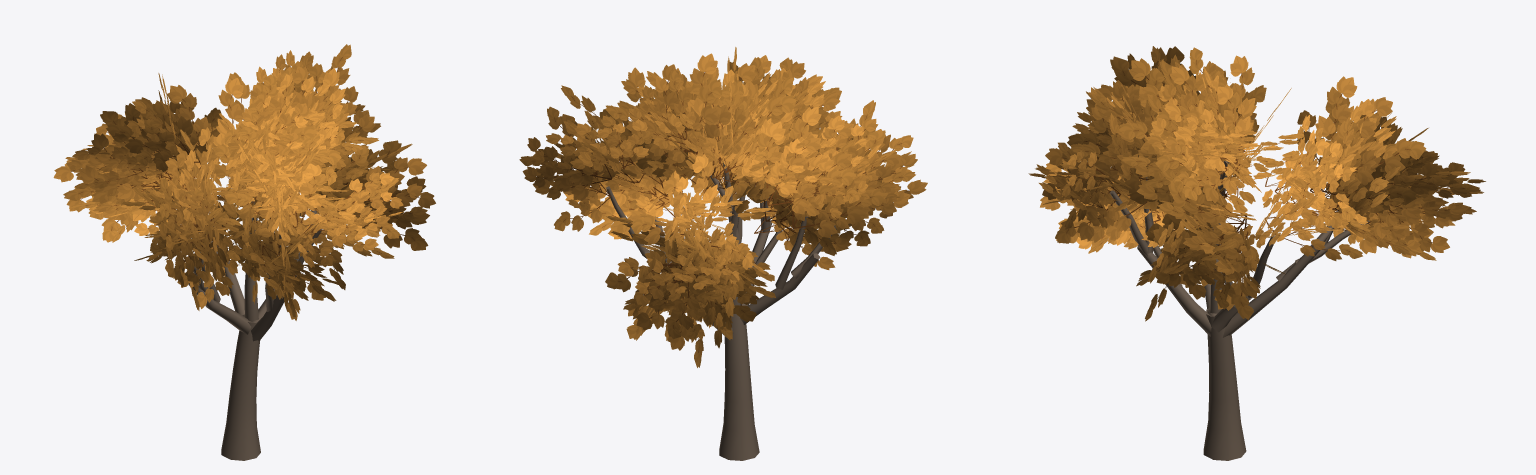
File: maple_autumn_1_mid.glb
The picture shows the model from 3 angles, left to right: view 1: azimuth 30°, elevation 25°; view 2: azimuth 150°, elevation 25°; view 3: azimuth 270°, elevation 25°; orthographic projection. The views are drawn at different scales.
Visible parts, largest first — view 1: maple_autumn_1_mid; view 2: maple_autumn_1_mid; view 3: maple_autumn_1_mid.
Part boxes in pixels (x1,y1,x2,y2): maple_autumn_1_mid: (53, 44, 435, 460); maple_autumn_1_mid: (519, 47, 927, 460); maple_autumn_1_mid: (1028, 46, 1485, 460).
Bounding box in the file's own units: 8.85 × 9.74 × 10.54.
2 materials, 1 textured.
